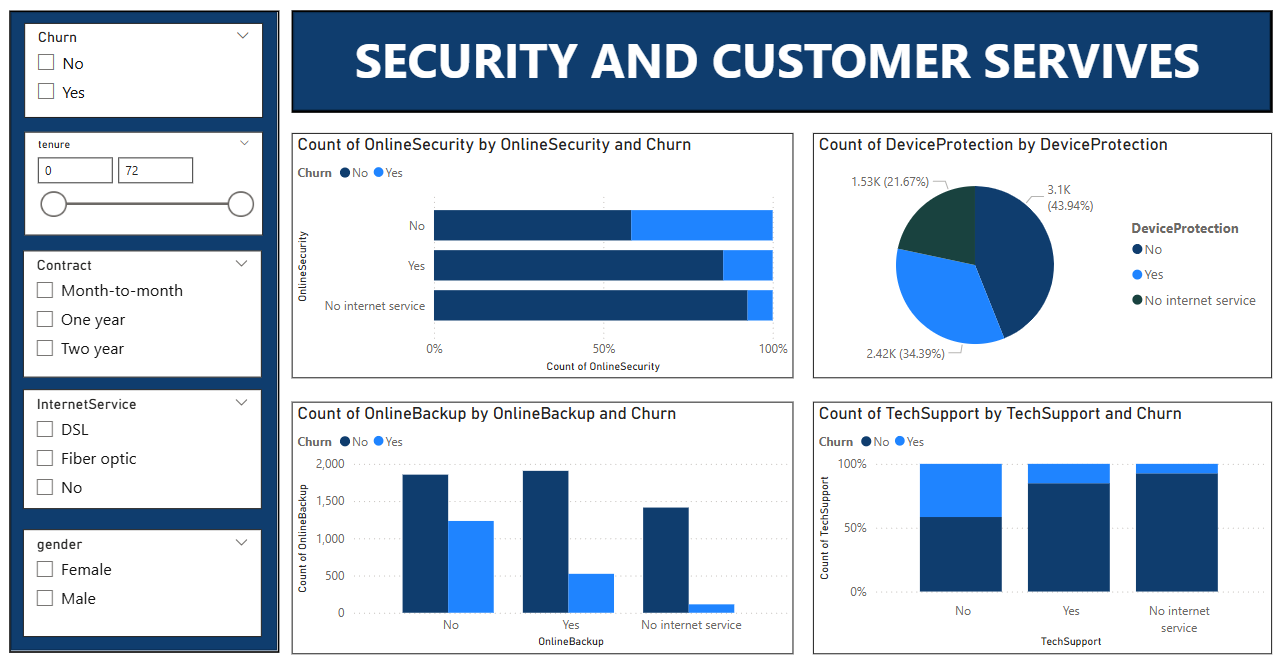

The dashboard page shown, as its layout file describes it:
{"tool":"powerbi","page":{"name":"Security and Customer services","canvas":[1280,720],"ordinal":3},"visuals":[{"type":"group","id":"g1","title":"Group 1","box":[11,32.9,269,639.5],"z":0},{"type":"group","id":"g2","title":"Group 2","box":[292.3,32.9,975.6,101.5],"z":1000},{"type":"pieChart","fields":{"Category":["01 Churn-Dataset.DeviceProtection"],"Y":["CountNonNull(01 Churn-Dataset.DeviceProtection)"]},"box":[811,153.7,456.9,244.3],"z":2000},{"type":"hundredPercentStackedBarChart","fields":{"Category":["01 Churn-Dataset.OnlineSecurity"],"Y":["CountNonNull(01 Churn-Dataset.OnlineSecurity)"],"Series":["01 Churn-Dataset.Churn"]},"box":[292.3,153.7,499.5,244.3],"z":3000},{"type":"shape","box":[11,32.9,269,639.5],"z":4000,"group":"g1"},{"type":"clusteredColumnChart","fields":{"Category":["01 Churn-Dataset.OnlineBackup"],"Y":["CountNonNull(01 Churn-Dataset.OnlineBackup)"],"Series":["01 Churn-Dataset.Churn"]},"box":[292.3,421.3,499.5,251.1],"z":4000},{"type":"shape","box":[292.3,32.9,975.6,101.5],"z":5000,"group":"g2"},{"type":"slicer","fields":{"Values":["01 Churn-Dataset.Churn"]},"box":[26.1,45.2,237.4,94.7],"z":5000,"group":"g1"},{"type":"hundredPercentStackedColumnChart","fields":{"Category":["01 Churn-Dataset.TechSupport"],"Y":["CountNonNull(01 Churn-Dataset.TechSupport)"],"Series":["01 Churn-Dataset.Churn"]},"box":[811,421.3,456.9,251.1],"z":5000},{"type":"textbox","box":[342.5,42.6,867.2,76.8],"z":6000,"group":"g2"},{"type":"slicer","fields":{"Values":["01 Churn-Dataset.tenure"]},"box":[26.1,153.7,237.4,102.9],"z":6000,"group":"g1"},{"type":"slicer","fields":{"Values":["01 Churn-Dataset.Contract"]},"box":[24.7,271.7,237.4,126.2],"z":7000,"group":"g1"},{"type":"slicer","fields":{"Values":["01 Churn-Dataset.InternetService"]},"box":[24.7,410.3,237.4,119.4],"z":8000,"group":"g1"},{"type":"slicer","fields":{"Values":["01 Churn-Dataset.gender"]},"box":[24.7,548.9,237.4,107],"z":9000,"group":"g1"}]}

Visuals, with their boxes on the page's 1280x720 design canvas (x1, y1, x2, y2). These are canvas units, not pixel positions in the 1280x664 screenshot, which may show the page scaled, cropped or inside an application window:
"Group 1" group: (left=11, top=33, right=280, bottom=672)
"Group 2" group: (left=292, top=33, right=1268, bottom=134)
pieChart - 01 Churn-Dataset.DeviceProtection x CountNonNull(01 Churn-Dataset.DeviceProtection): (left=811, top=154, right=1268, bottom=398)
hundredPercentStackedBarChart - 01 Churn-Dataset.OnlineSecurity x CountNonNull(01 Churn-Dataset.OnlineSecurity): (left=292, top=154, right=792, bottom=398)
shape: (left=11, top=33, right=280, bottom=672)
clusteredColumnChart - 01 Churn-Dataset.OnlineBackup x CountNonNull(01 Churn-Dataset.OnlineBackup): (left=292, top=421, right=792, bottom=672)
shape: (left=292, top=33, right=1268, bottom=134)
slicer - 01 Churn-Dataset.Churn: (left=26, top=45, right=264, bottom=140)
hundredPercentStackedColumnChart - 01 Churn-Dataset.TechSupport x CountNonNull(01 Churn-Dataset.TechSupport): (left=811, top=421, right=1268, bottom=672)
textbox: (left=342, top=43, right=1210, bottom=119)
slicer - 01 Churn-Dataset.tenure: (left=26, top=154, right=264, bottom=257)
slicer - 01 Churn-Dataset.Contract: (left=25, top=272, right=262, bottom=398)
slicer - 01 Churn-Dataset.InternetService: (left=25, top=410, right=262, bottom=530)
slicer - 01 Churn-Dataset.gender: (left=25, top=549, right=262, bottom=656)
